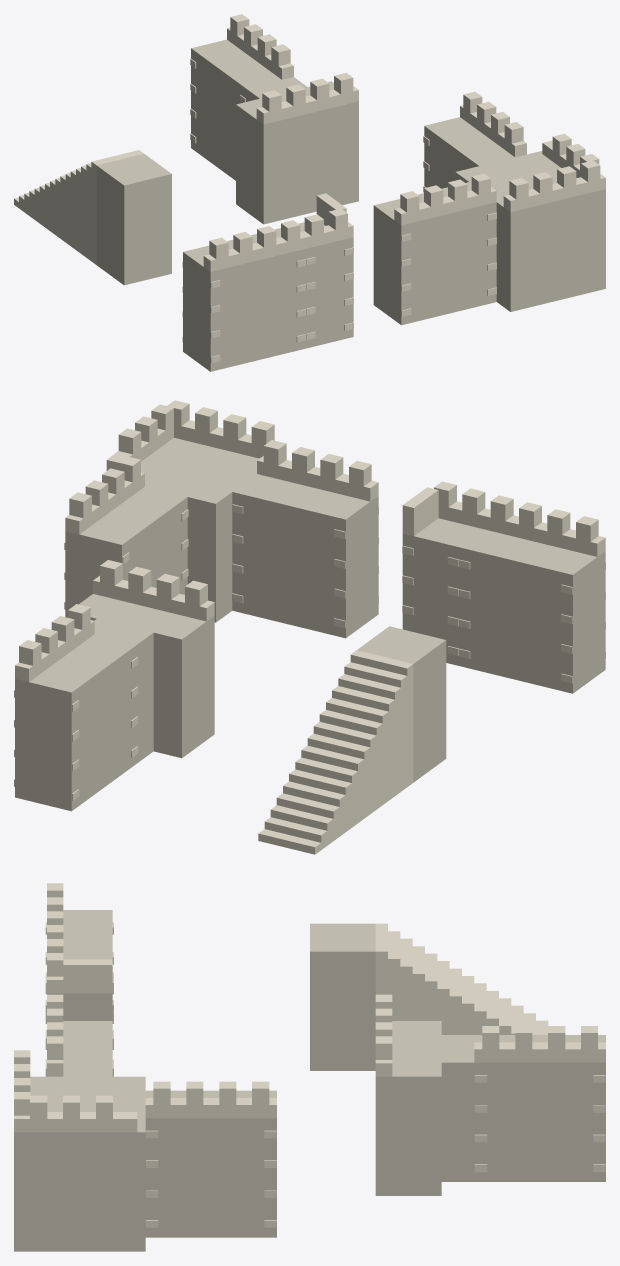
File: castle-connector-cases.glb
3 views of the same model, one above another, from view 1: azimuth 30°, elevation 25°; view 2: azimuth 150°, elevation 25°; view 3: azimuth 270°, elevation 25° (orthographic). The views are drawn at different scales.
Parts seen in each view (by area): view 1: 001-curtain-corner/0, 005-curtain-tee/0, 000-curtain-straight-4m/0, 003-curtain-straight-4m/0, 008-stair-landing/0, 006-curtain-straight-4m/0, 007-stairs-straight-4m/0, 004-curtain-end/0, 001-curtain-corner/1, 002-curtain-straight-4m/0, 003-curtain-straight-4m/1, 000-curtain-straight-4m/1 (+4 smaller); view 2: 000-curtain-straight-4m/0, 003-curtain-straight-4m/0, 007-stairs-straight-4m/0, 006-curtain-straight-4m/0, 005-curtain-tee/0, 001-curtain-corner/0, 002-curtain-straight-4m/0, 004-curtain-end/0, 008-stair-landing/0, 001-curtain-corner/1, 000-curtain-straight-4m/1, 003-curtain-straight-4m/1 (+4 smaller); view 3: 001-curtain-corner/0, 002-curtain-straight-4m/0, 006-curtain-straight-4m/0, 005-curtain-tee/0, 008-stair-landing/0, 007-stairs-straight-4m/0, 002-curtain-straight-4m/1, 006-curtain-straight-4m/1, 001-curtain-corner/1, 004-curtain-end/1, 000-curtain-straight-4m/0, 003-curtain-straight-4m/0 (+4 smaller).
Part boxes in pixels (<box>): 001-curtain-corner/0: <box>455,151,605,311</box>; 005-curtain-tee/0: <box>236,77,358,224</box>; 000-curtain-straight-4m/0: <box>373,182,496,325</box>; 003-curtain-straight-4m/0: <box>183,228,305,371</box>; 008-stair-landing/0: <box>96,154,171,285</box>; 006-curtain-straight-4m/0: <box>191,39,281,180</box>; 007-stairs-straight-4m/0: <box>14,150,143,264</box>; 004-curtain-end/0: <box>278,222,353,348</box>; 001-curtain-corner/1: <box>503,133,605,212</box>; 002-curtain-straight-4m/0: <box>424,117,514,188</box>; 003-curtain-straight-4m/1: <box>182,220,306,363</box>; 000-curtain-straight-4m/1: <box>394,173,496,316</box>; 000-curtain-straight-4m/0: <box>232,474,378,638</box>; 003-curtain-straight-4m/0: <box>459,529,605,693</box>; 007-stairs-straight-4m/0: <box>258,650,413,854</box>; 006-curtain-straight-4m/0: <box>15,634,137,811</box>; 005-curtain-tee/0: <box>79,594,214,762</box>; 001-curtain-corner/0: <box>141,438,258,622</box>; 002-curtain-straight-4m/0: <box>65,486,187,617</box>; 004-curtain-end/0: <box>402,518,483,665</box>; 008-stair-landing/0: <box>357,626,446,782</box>; 001-curtain-corner/1: <box>106,400,274,470</box>; 000-curtain-straight-4m/1: <box>232,440,378,628</box>; 003-curtain-straight-4m/1: <box>459,495,605,683</box>; 001-curtain-corner/0: <box>14,1076,145,1251</box>; 002-curtain-straight-4m/0: <box>145,1090,276,1237</box>; 006-curtain-straight-4m/0: <box>474,1035,605,1181</box>; 005-curtain-tee/0: <box>375,1021,474,1195</box>; 008-stair-landing/0: <box>310,923,375,1070</box>; 007-stairs-straight-4m/0: <box>375,923,548,1034</box>; 002-curtain-straight-4m/1: <box>145,1081,276,1227</box>; 006-curtain-straight-4m/1: <box>474,1026,605,1172</box>; 001-curtain-corner/1: <box>14,1050,137,1132</box>; 004-curtain-end/1: <box>45,939,113,1076</box>; 000-curtain-straight-4m/0: <box>63,1021,112,1076</box>; 003-curtain-straight-4m/0: <box>63,910,112,959</box>.
Size of the model in its own units: 16 by 5 by 18.
